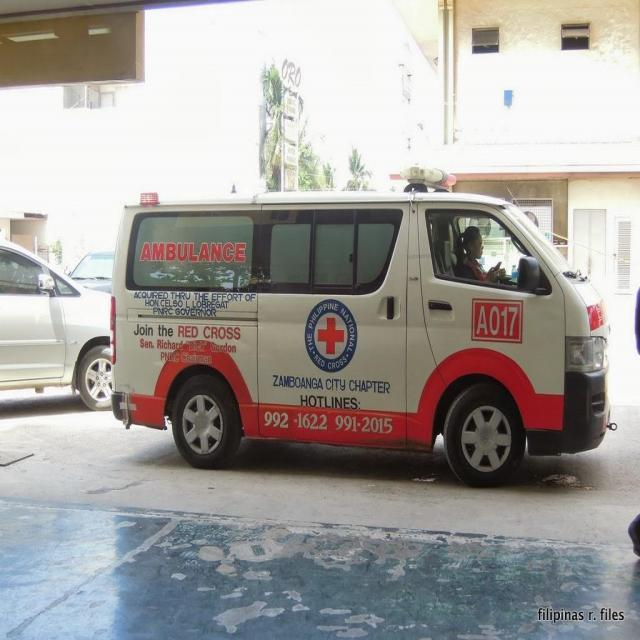emergency-vehicle: (103, 173, 620, 494)
